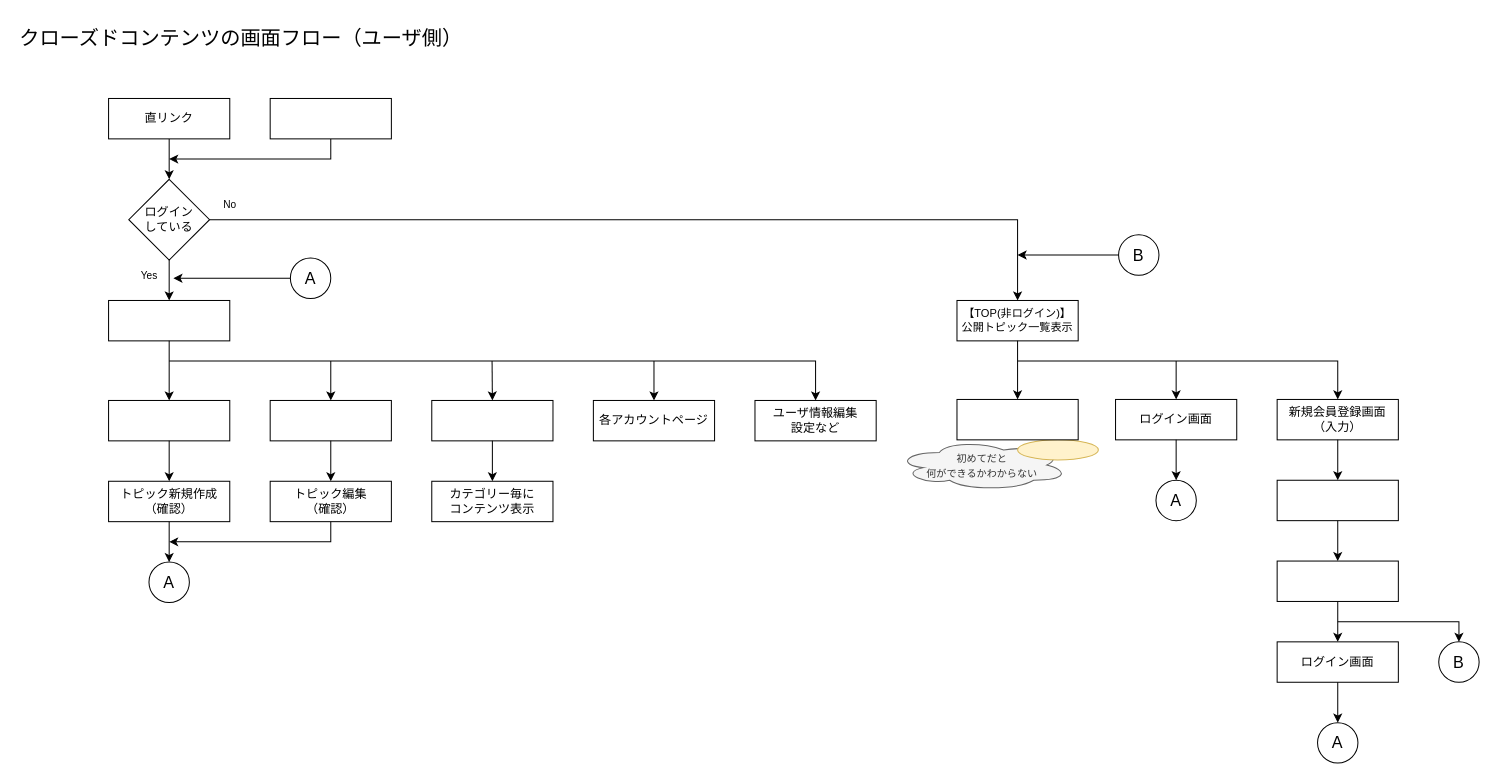
Some shapes in this 1497 by 781 pixel diagram are drawn without their labels. Here are the shapes that lost their labels. From the top down, the centre of each, then its label:
(330,118): 対外コンテンツからリンク遷移
(169,320): 【TOP(ログイン)】 トピック一覧表示
(169,420): トピック新規作成 （入力）
(330,420): トピック編集 （入力）
(492,420): IIMS活動の アーカイブTOP
(1017,419): アプリ説明を表示
(1057,449): チュートリアル
(1337,500): 会員情報登録画面 （確認）
(1337,580): 会員情報確認画面 （完了）
